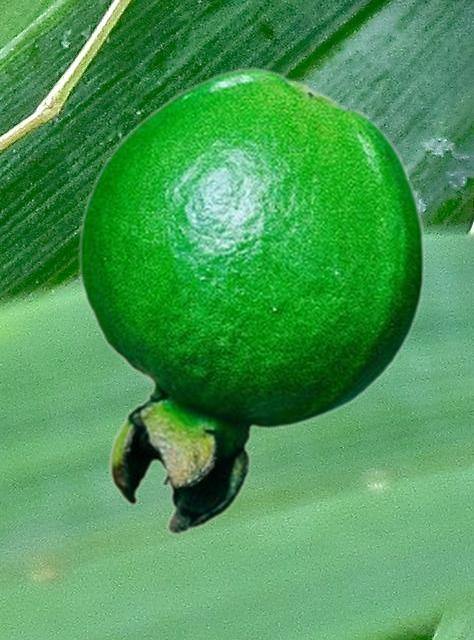guava: (77, 67, 425, 534)
